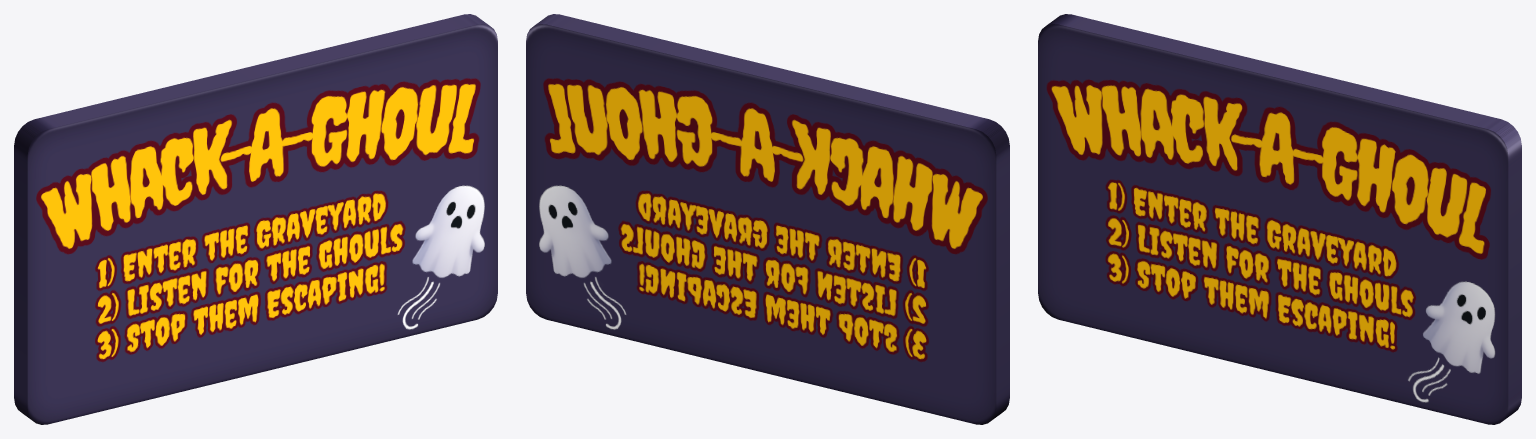
The model's file is welcome-sign.gltf.
The picture shows the model from 3 angles, left to right: view 1: azimuth 30°, elevation 25°; view 2: azimuth 150°, elevation 25°; view 3: azimuth 330°, elevation 25°; orthographic projection.
Parts seen in each view (by area): view 1: Cube; view 2: Cube; view 3: Cube.
Part boxes in pixels (box(x1,y1,x2,y2)): Cube: box(14, 14, 497, 424); Cube: box(526, 14, 1009, 424); Cube: box(1038, 14, 1521, 424).
Bounding box in the file's own units: 2 × 1.2 × 0.1.
Materials: 1 (1 with a texture image).
